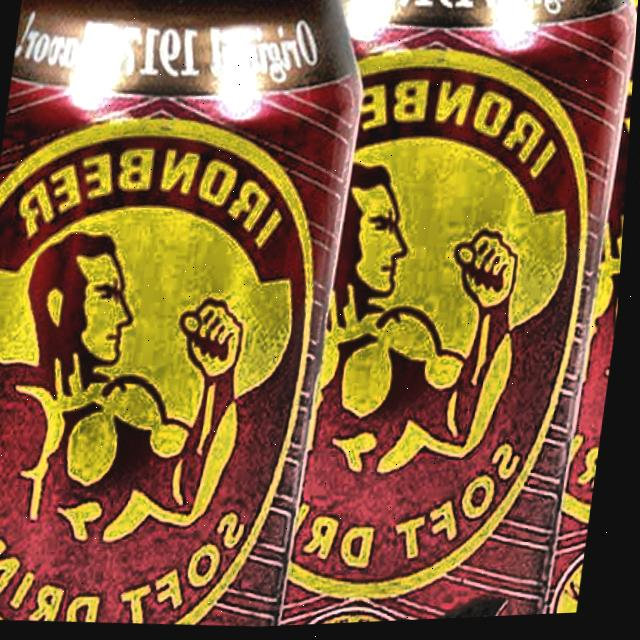metal: (183, 0, 640, 632), (0, 0, 385, 640), (441, 0, 639, 623)
